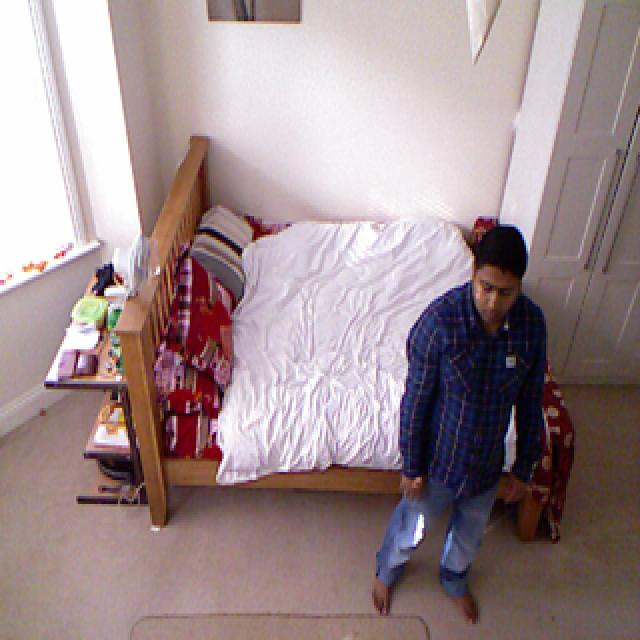standing: (384, 221, 550, 618)
